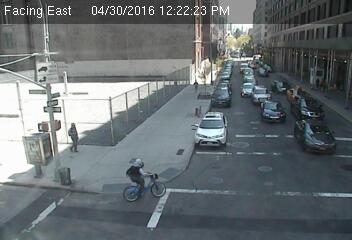neg: (113, 151, 156, 208), (247, 100, 272, 133), (22, 140, 46, 172)
pos: (61, 117, 85, 149), (190, 76, 205, 97)
